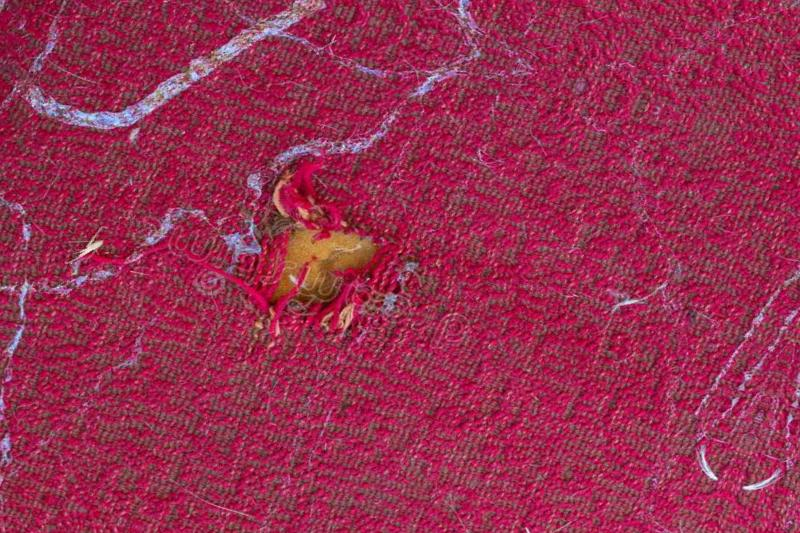hole: (254, 200, 405, 335)
